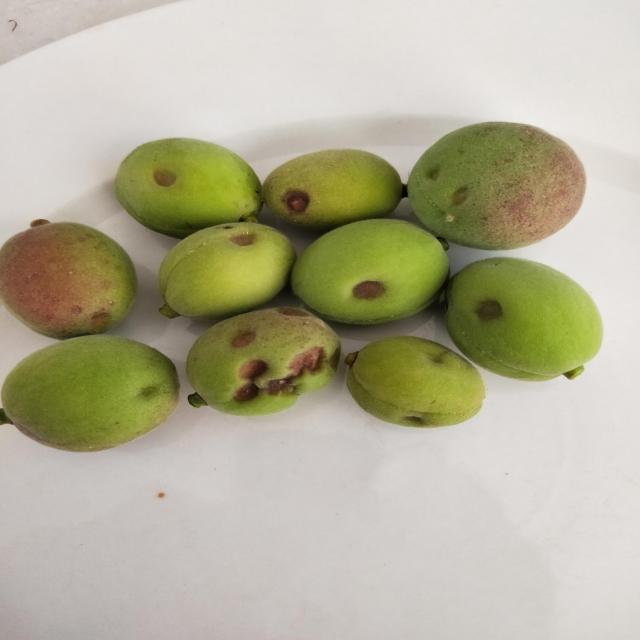Olive Fruit Fly: (407, 122, 586, 250), (2, 335, 179, 451), (446, 258, 602, 379), (186, 307, 340, 416), (291, 219, 449, 324), (0, 221, 137, 339), (115, 138, 262, 239), (158, 220, 296, 319), (345, 336, 485, 427), (262, 149, 402, 231)
